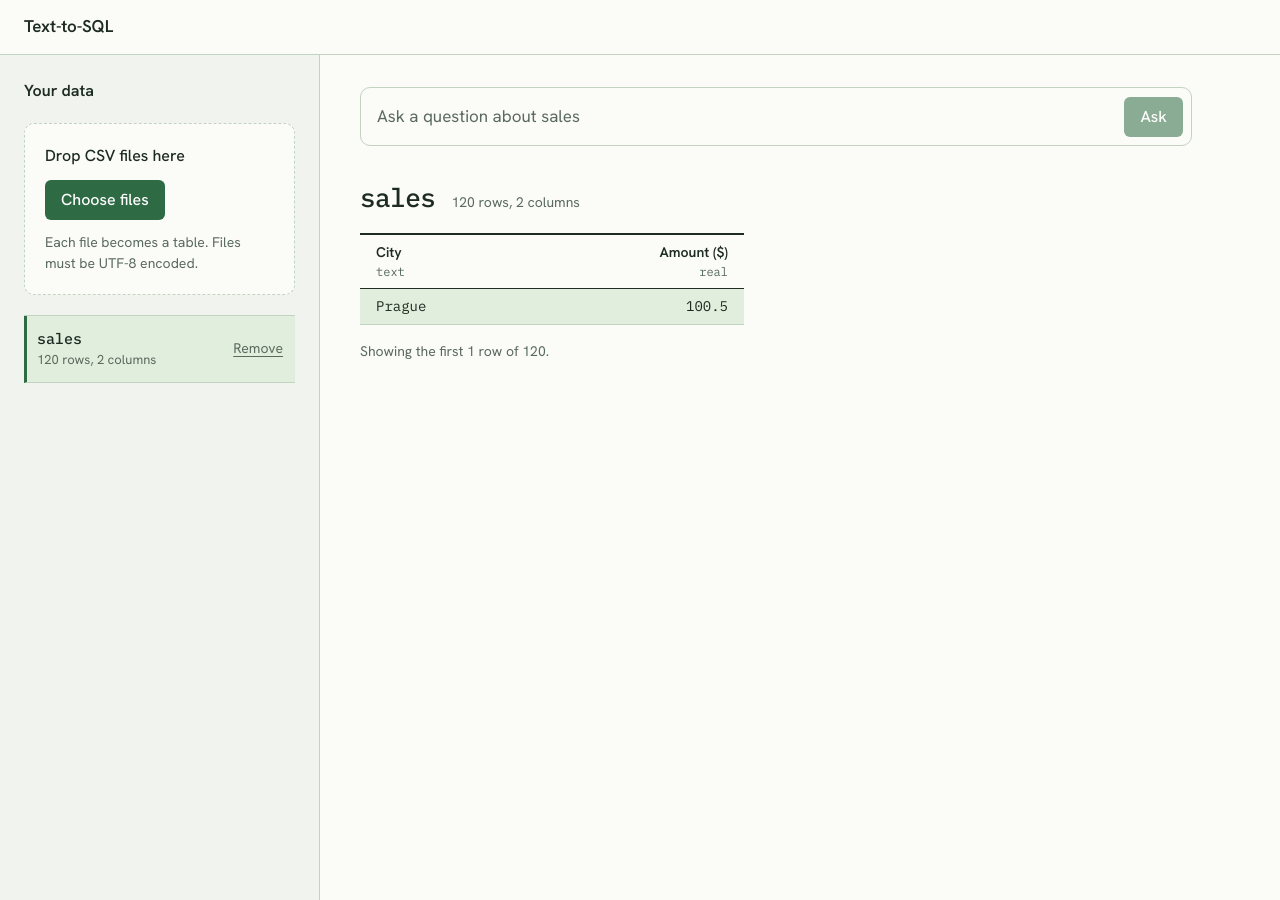
Test: asking questions › goes back to the table preview when a table is picked
Expected: the heading "sales" is shown, [360, 178, 435, 217]
Step 1. Type "Total amount by city" into the text box labelled "question" → coordinates (745, 116), box [377, 96, 1112, 137]
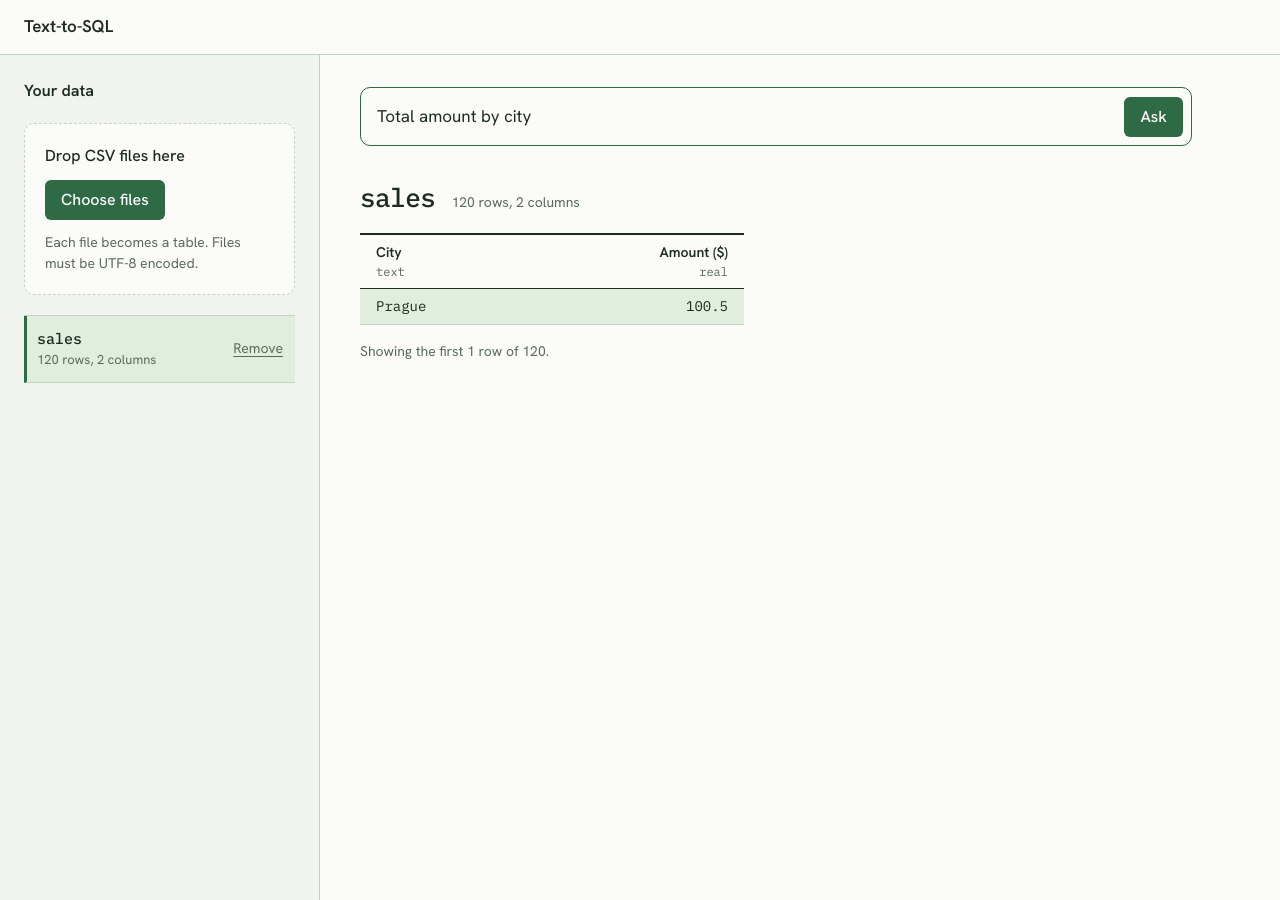
Step 2. Click the button "Ask" → coordinates (1154, 117), box [1124, 97, 1183, 137]
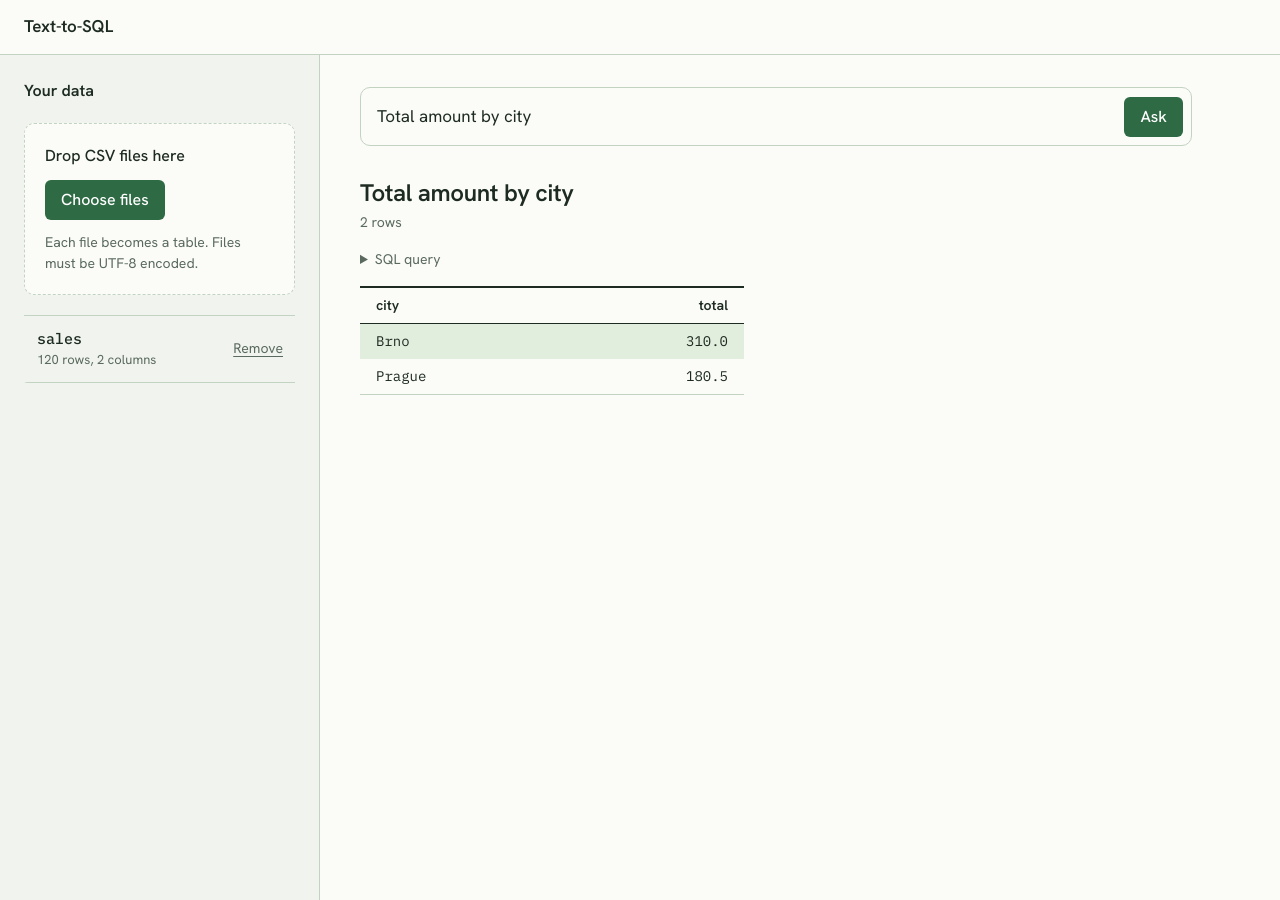
Expected: the table named "Query result" is shown, [360, 288, 744, 394]
Step 3. Click the button "sales 120 rows, 2 columns" → coordinates (124, 348), box [27, 320, 221, 378]
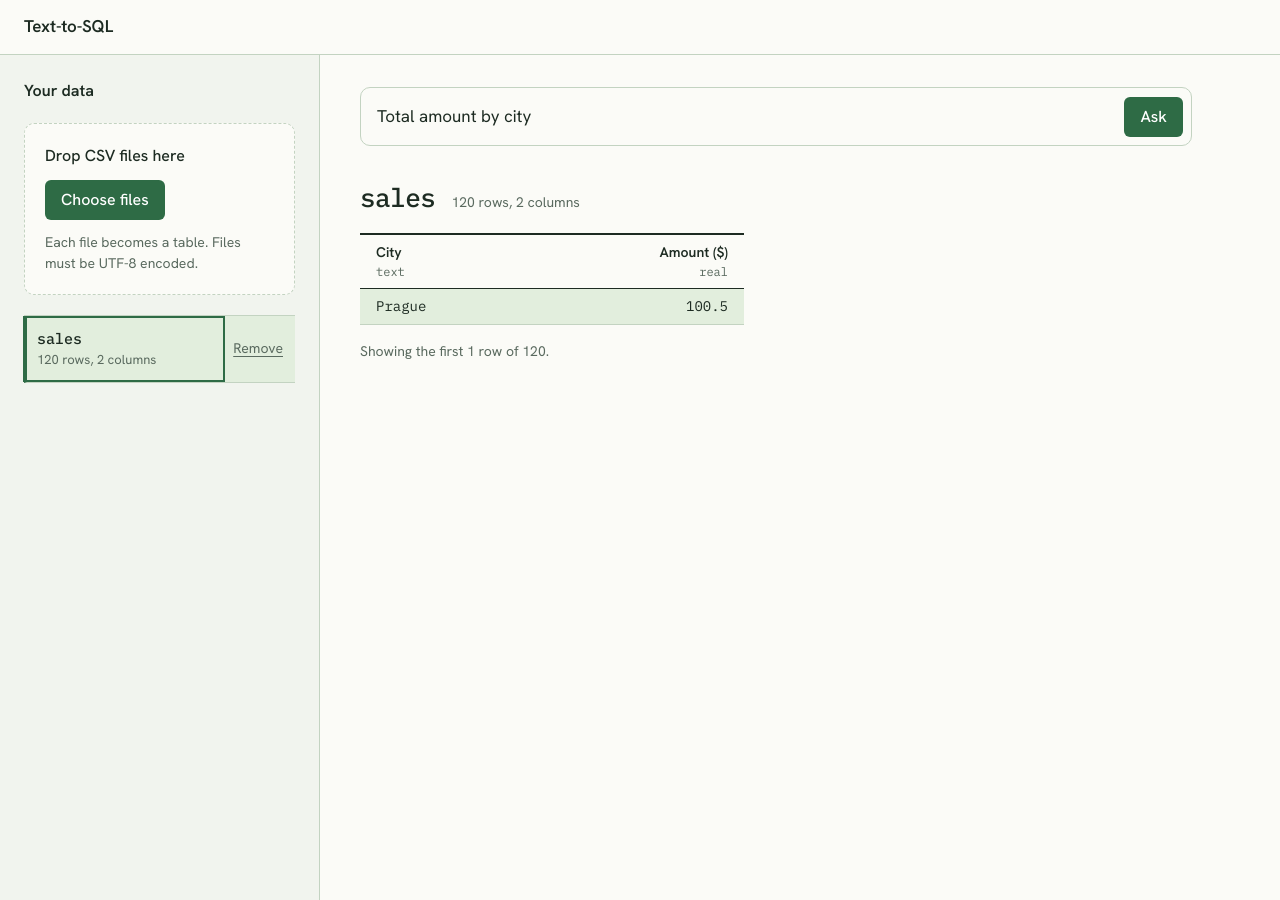
Expected: the heading "sales" is shown, [360, 178, 435, 217]
